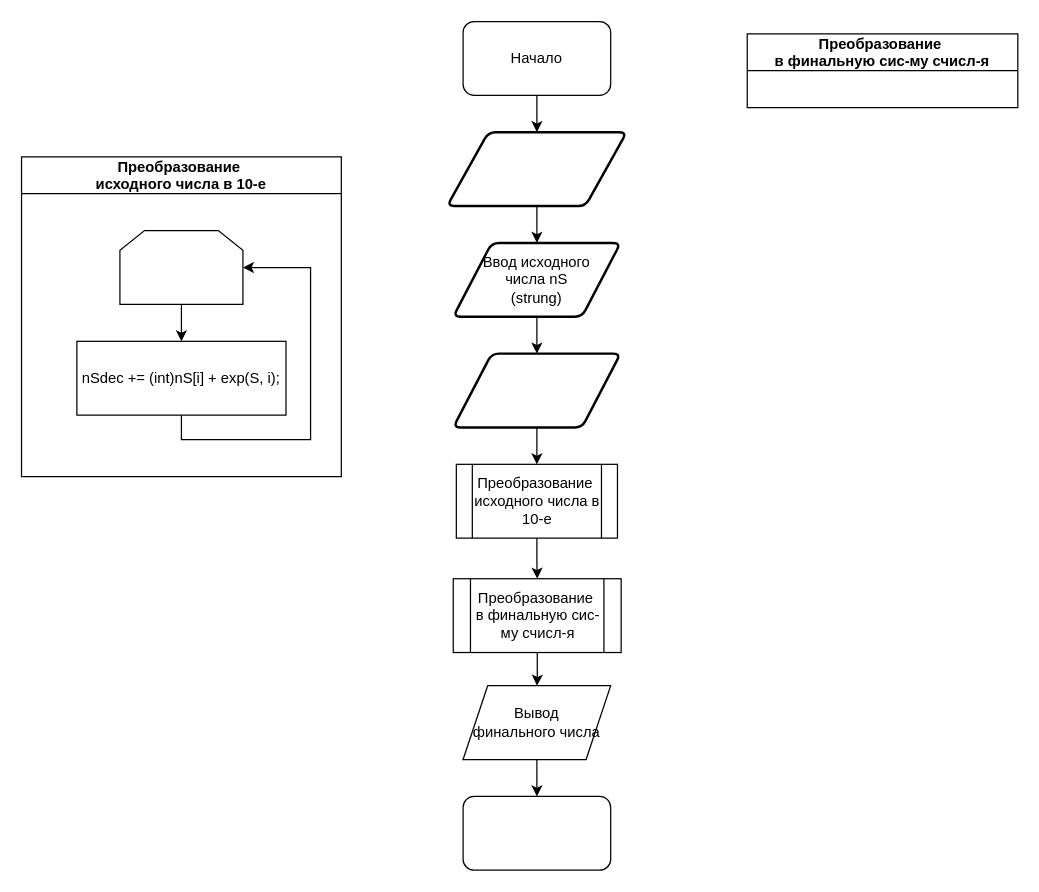
Image size: 1039x892. Some labels were removed from this diagram. Each missing label, with the centre of its shape:
int i = 0; i<strlen(nS); i++;: the point at 181,266
Ввод исходного основания S: the point at 536,168
Ввод финального основания F: the point at 536,390
Конец: the point at 536,832
